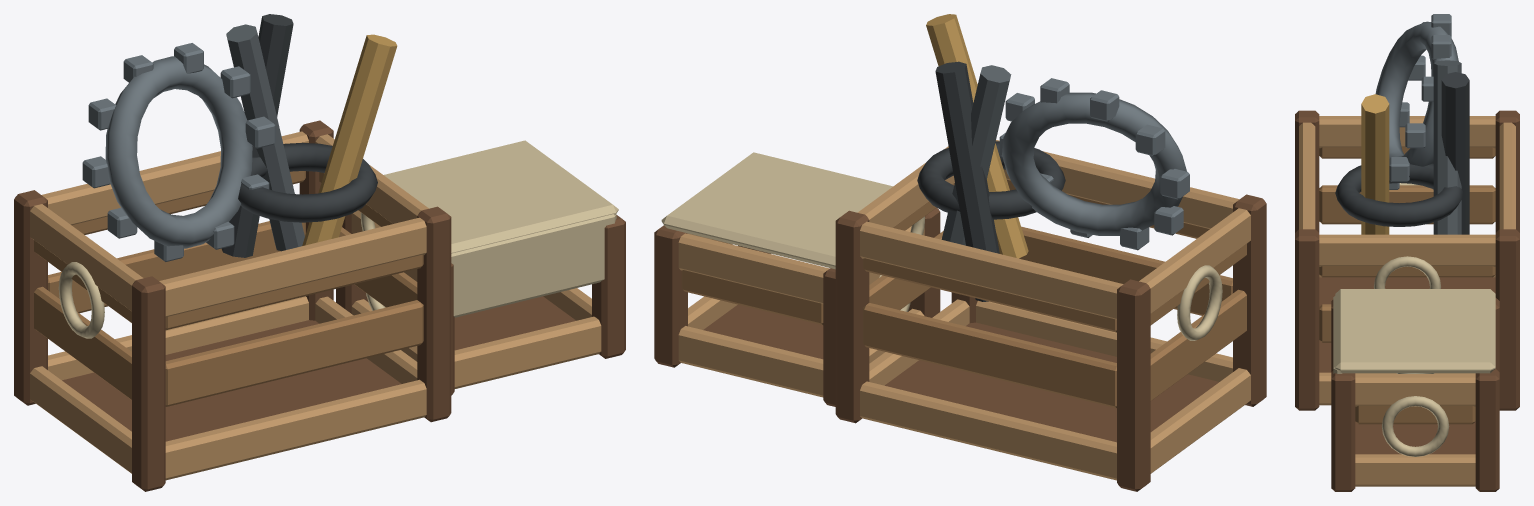
3 renders of one model, left to right at view 1: azimuth 30°, elevation 25°; view 2: azimuth 150°, elevation 25°; view 3: azimuth 270°, elevation 25°, orthographic. The views are drawn at different scales.
Visible parts, largest first — view 1: lane_wood_light, lane_wood_dark, lane_wood, lane_pages, lane_steel, lane_iron, lane_brass, lane_iron_light; view 2: lane_wood_light, lane_wood_dark, lane_wood, lane_pages, lane_steel, lane_iron, lane_brass, lane_iron_light; view 3: lane_wood_dark, lane_wood_light, lane_pages, lane_wood, lane_iron, lane_steel, lane_brass, lane_iron_light.
Boxes of the visible parts, left/top/right/bottom form: lane_wood_light: left=30, top=131, right=601, bottom=480; lane_wood_dark: left=14, top=120, right=625, bottom=491; lane_wood: left=34, top=171, right=423, bottom=406; lane_pages: left=58, top=140, right=618, bottom=338; lane_steel: left=82, top=43, right=275, bottom=261; lane_iron: left=222, top=14, right=377, bottom=257; lane_brass: left=302, top=34, right=397, bottom=245; lane_iron_light: left=226, top=24, right=304, bottom=251; lane_wood_light: left=678, top=140, right=1250, bottom=480; lane_wood_dark: left=654, top=194, right=1266, bottom=491; lane_wood: left=681, top=179, right=1246, bottom=408; lane_pages: left=661, top=152, right=1222, bottom=340; lane_steel: left=999, top=78, right=1189, bottom=250; lane_iron: left=917, top=61, right=1065, bottom=301; lane_brass: left=926, top=14, right=1028, bottom=258; lane_iron_light: left=941, top=65, right=1011, bottom=245; lane_wood_dark: left=1295, top=110, right=1519, bottom=491; lane_wood_light: left=1299, top=116, right=1515, bottom=486; lane_pages: left=1333, top=183, right=1495, bottom=456; lane_wood: left=1319, top=147, right=1495, bottom=424; lane_iron: left=1335, top=72, right=1469, bottom=234; lane_steel: left=1375, top=14, right=1458, bottom=189; lane_brass: left=1361, top=94, right=1389, bottom=234; lane_iron_light: left=1433, top=60, right=1461, bottom=234.
Size of the model in its own units: 1.24 by 0.8314 by 0.56.
